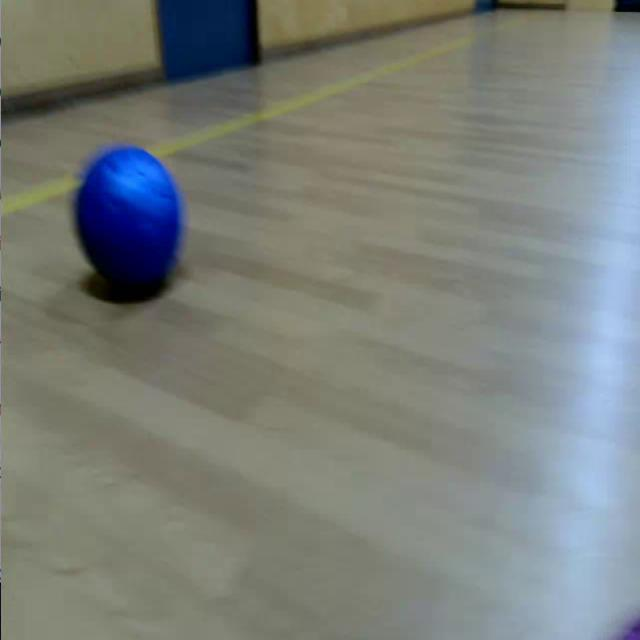blue_ball: (75, 147, 183, 294)
